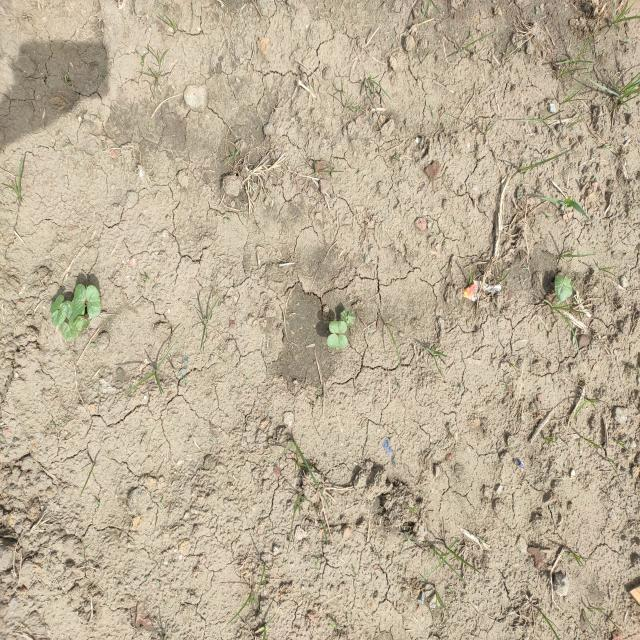seedling_s2: (554, 275, 573, 302), (85, 285, 100, 318), (61, 313, 78, 340), (73, 283, 85, 317), (53, 303, 67, 325), (327, 334, 348, 348), (73, 314, 88, 332), (340, 308, 355, 326), (51, 294, 64, 314), (329, 320, 347, 333), (64, 301, 72, 317)
